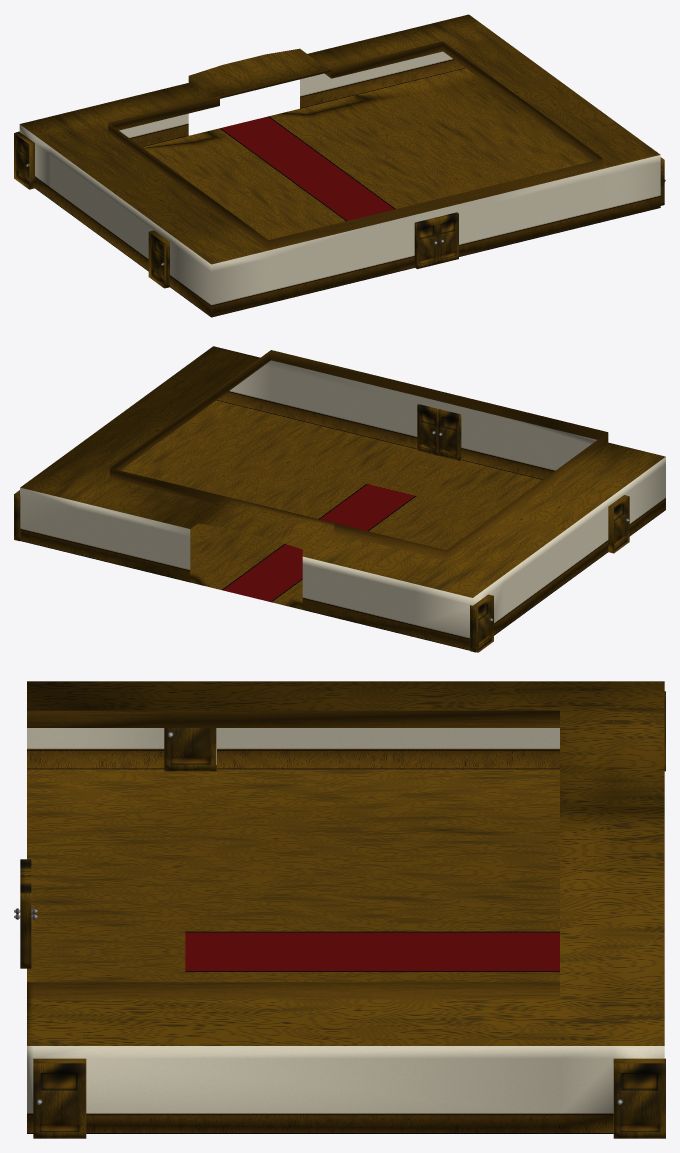
The model's file is first_floor0.fbx.
3 views of the same model, one above another, from view 1: azimuth 30°, elevation 25°; view 2: azimuth 150°, elevation 25°; view 3: azimuth 270°, elevation 25° (orthographic). The views are drawn at different scales.
Parts seen in each view (by area): view 1: obj5, obj4, obj2, obj1, obj3; view 2: obj5, obj4, obj2, obj3, obj1; view 3: obj5, obj6, obj7, obj1, obj2.
Part boxes in pixels (x1,y1,x2,y2): obj5: [14, 14, 663, 317]; obj4: [414, 217, 437, 269]; obj2: [436, 212, 458, 263]; obj1: [151, 233, 169, 287]; obj3: [16, 131, 29, 187]; obj5: [15, 346, 665, 652]; obj4: [438, 409, 461, 460]; obj2: [417, 404, 439, 455]; obj3: [470, 597, 492, 652]; obj1: [614, 498, 629, 550]; obj5: [27, 681, 664, 1138]; obj6: [33, 1058, 85, 1138]; obj7: [614, 1058, 665, 1138]; obj1: [164, 728, 216, 771]; obj2: [14, 876, 37, 968].
Bounding box in the file's own units: 2151 × 280 × 1572.
3 materials, 3 textured.
